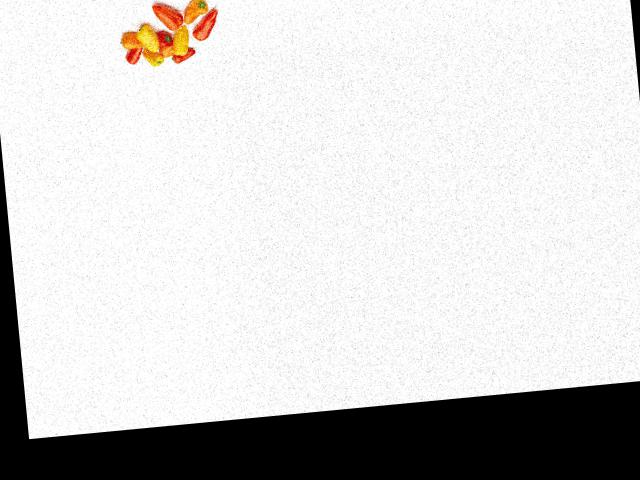bell_pepper: (170, 49, 199, 65)
